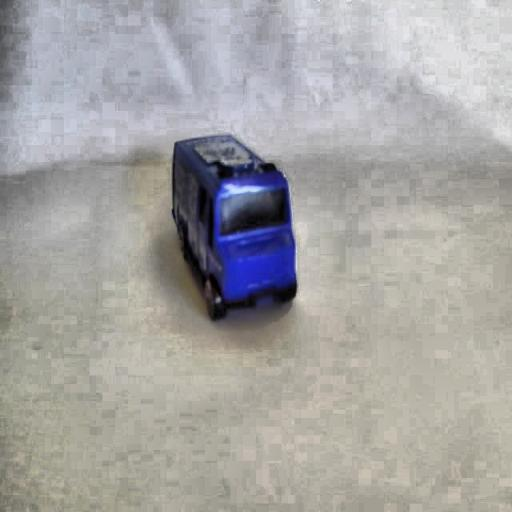police car: (168, 130, 306, 321)
